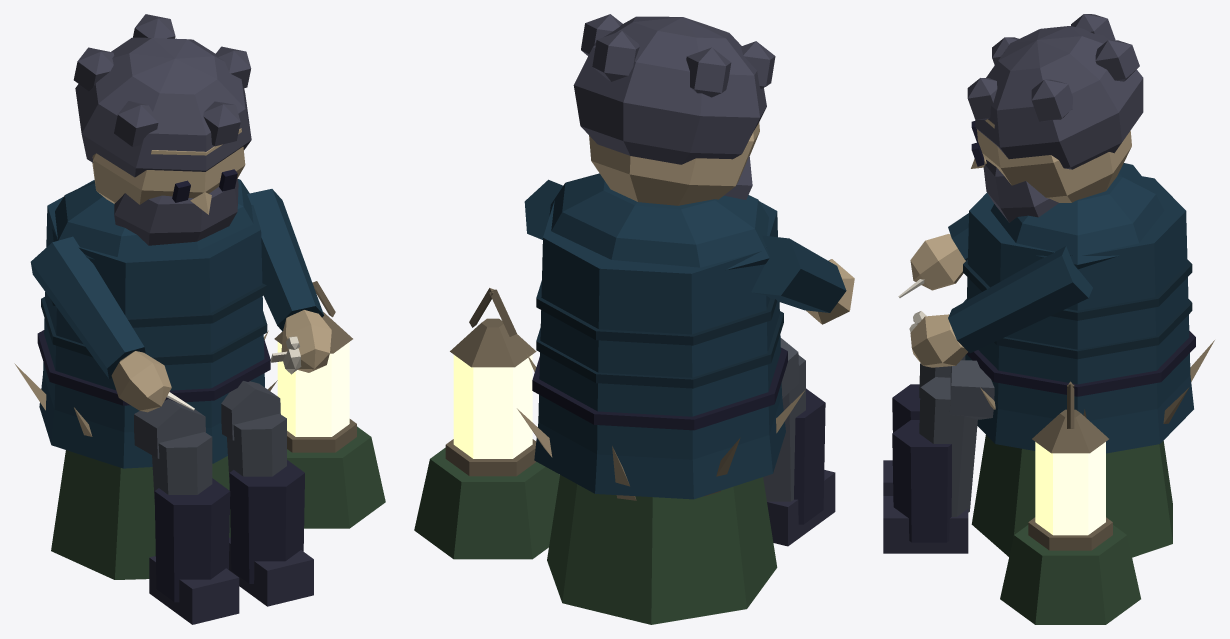
Rendered from dunstan_seated.glb.
3 views of the same model, side by side, from view 1: azimuth 30°, elevation 25°; view 2: azimuth 150°, elevation 25°; view 3: azimuth 270°, elevation 25° (orthographic). The views are drawn at different scales.
Visible parts, largest first — view 1: Torso, Head, Stool, LegR, LegL, ArmR, ArmL; view 2: Torso, Stool, Head, LegR, ArmR, ArmL; view 3: Torso, Stool, Head, LegL, ArmL, ArmR, LegR.
Boxes of the visible parts, x1,y1,x2,y2 form: Torso: (37, 179, 270, 468); Head: (73, 14, 251, 245); Stool: (14, 281, 385, 579); LegR: (134, 399, 239, 624); LegL: (221, 381, 313, 606); ArmR: (30, 236, 194, 412); ArmL: (247, 189, 331, 374); Torso: (532, 173, 787, 499); Stool: (414, 288, 804, 624); Head: (573, 14, 775, 205); LegR: (763, 338, 835, 546); ArmR: (751, 235, 854, 324); ArmL: (524, 179, 562, 239); Torso: (963, 163, 1195, 453); Stool: (971, 340, 1214, 624); Head: (967, 14, 1143, 222); LegL: (883, 360, 994, 553); ArmL: (909, 246, 1092, 367); ArmR: (898, 213, 968, 297); LegR: (883, 356, 965, 495).
Bounding box in the file's own units: 1.16 × 1.67 × 1.02.
